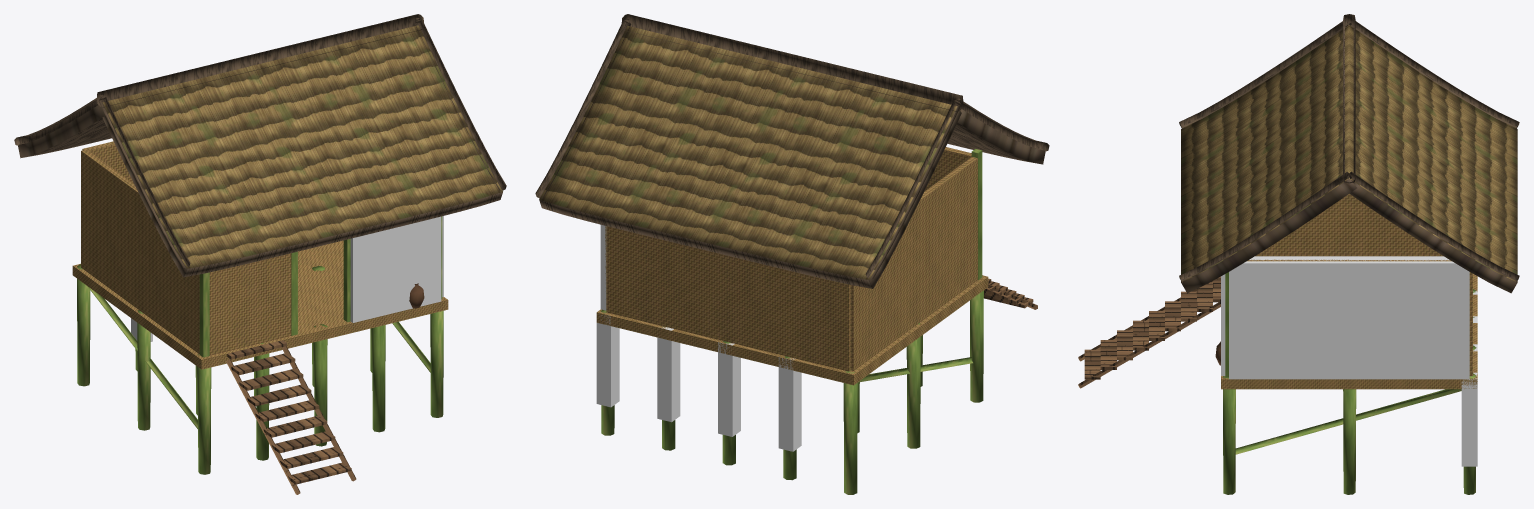
The model's file is stilt_house_small.glb.
The picture shows the model from 3 angles, left to right: view 1: azimuth 30°, elevation 25°; view 2: azimuth 150°, elevation 25°; view 3: azimuth 270°, elevation 25°; orthographic projection. The views are drawn at different scales.
Visible parts, largest first — view 1: Thatch, Walls, Stilts, Floor, ThatchRidge, Front-convcolonly.001, Stair, Frame; view 2: Thatch, Walls, ThatchRidge, Stilts, Floor, Stilt-convcolonly.001, Stilt-convcolonly.004, Stilt-convcolonly.003, Stilt-convcolonly.002, Stair, Frame, Side-convcolonly.001; view 3: Thatch, Side-convcolonly.001, Walls, ThatchRidge, Stair, Stilts, Floor, Stilt-convcolonly.004, Front-convcolonly.001.
Boxes of the visible parts, x1=… form: Thatch: x1=18, y1=25, x2=502, y2=277; Walls: x1=81, y1=141, x2=291, y2=355; Stilts: x1=77, y1=264, x2=443, y2=474; Floor: x1=72, y1=240, x2=448, y2=369; ThatchRidge: x1=14, y1=14, x2=506, y2=268; Front-convcolonly.001: x1=350, y1=216, x2=441, y2=322; Stair: x1=225, y1=340, x2=356, y2=494; Frame: x1=199, y1=216, x2=442, y2=357; Thatch: x1=539, y1=25, x2=1045, y2=288; Walls: x1=605, y1=147, x2=977, y2=371; ThatchRidge: x1=535, y1=14, x2=1049, y2=279; Stilts: x1=601, y1=290, x2=983, y2=494; Floor: x1=596, y1=275, x2=988, y2=385; Stilt-convcolonly.001: x1=778, y1=357, x2=801, y2=451; Stilt-convcolonly.004: x1=596, y1=314, x2=619, y2=407; Stilt-convcolonly.003: x1=657, y1=327, x2=680, y2=422; Stilt-convcolonly.002: x1=718, y1=342, x2=740, y2=436; Stair: x1=984, y1=278, x2=1037, y2=309; Frame: x1=971, y1=149, x2=982, y2=280; Side-convcolonly.001: x1=600, y1=225, x2=606, y2=310; Thatch: x1=1181, y1=25, x2=1517, y2=293; Side-convcolonly.001: x1=1229, y1=256, x2=1469, y2=379; Walls: x1=1247, y1=193, x2=1472, y2=375; ThatchRidge: x1=1179, y1=14, x2=1519, y2=282; Stair: x1=1078, y1=276, x2=1220, y2=388; Stilts: x1=1223, y1=289, x2=1476, y2=494; Floor: x1=1221, y1=274, x2=1477, y2=389; Stilt-convcolonly.004: x1=1461, y1=372, x2=1477, y2=466; Front-convcolonly.001: x1=1221, y1=274, x2=1225, y2=375.
Size of what is drawn, in the model's own units: 6.93 by 7.1 by 8.26.
6 materials, 6 textured.
